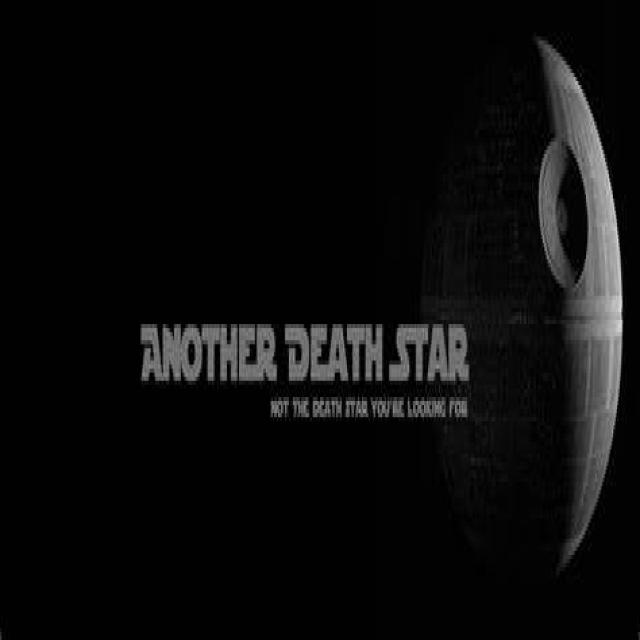deathStar: (418, 33, 624, 585)
